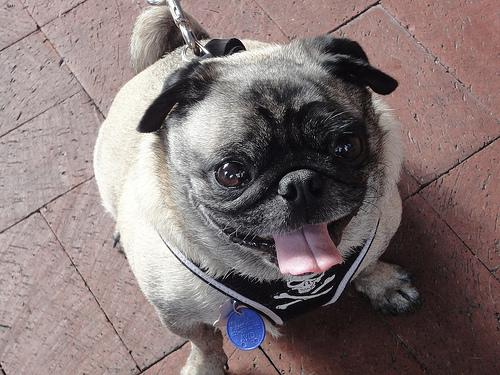dog-pug: (137, 35, 397, 274)
